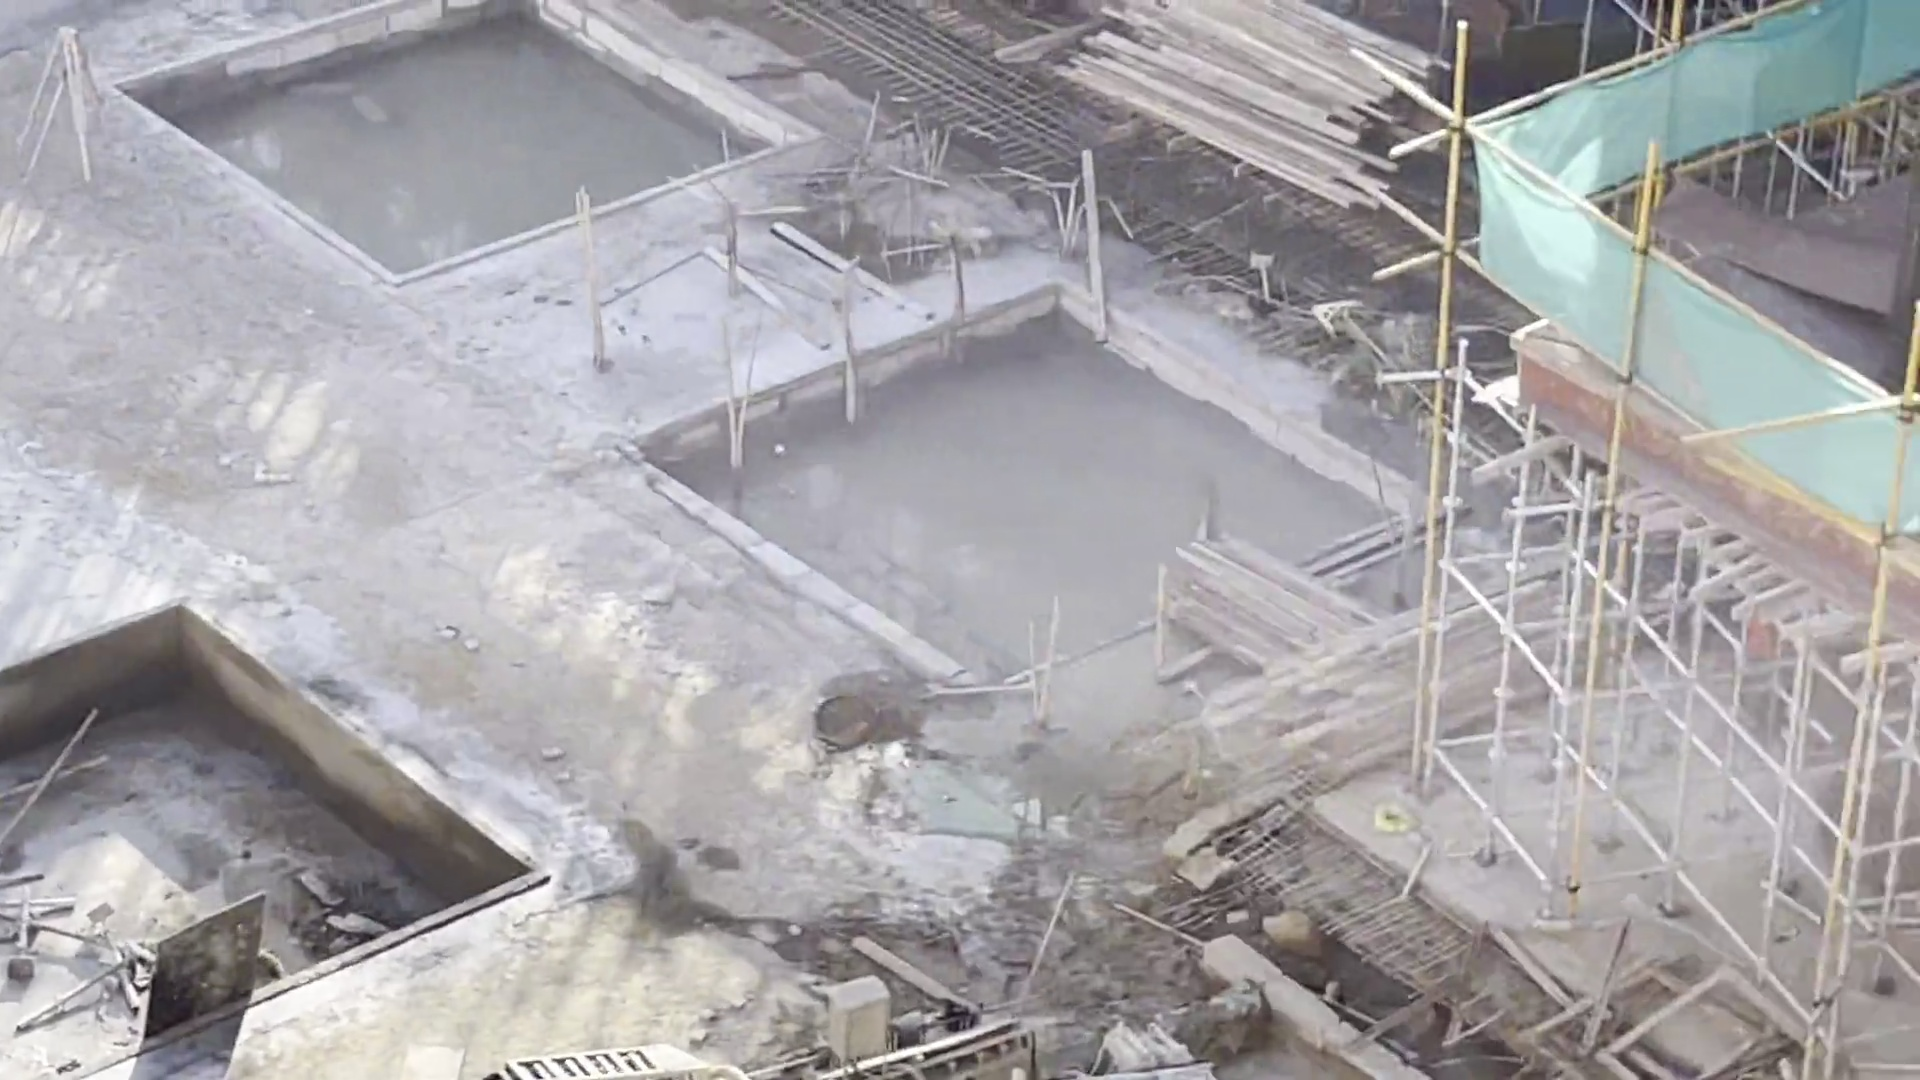wood: (1116, 462, 1606, 819), (1073, 1, 1415, 262)
